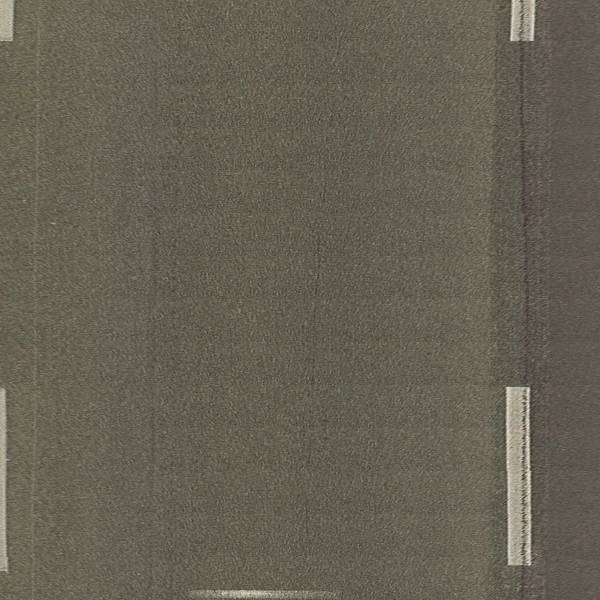road_damage: (513, 42, 537, 382)
